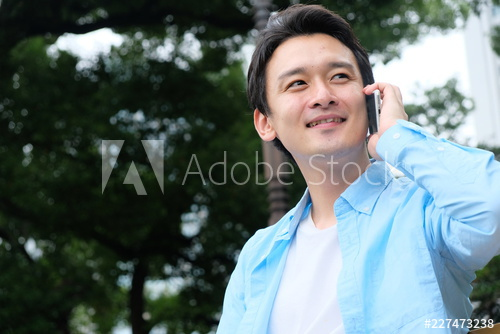phone: (360, 83, 408, 137)
talk: (270, 58, 412, 162)
